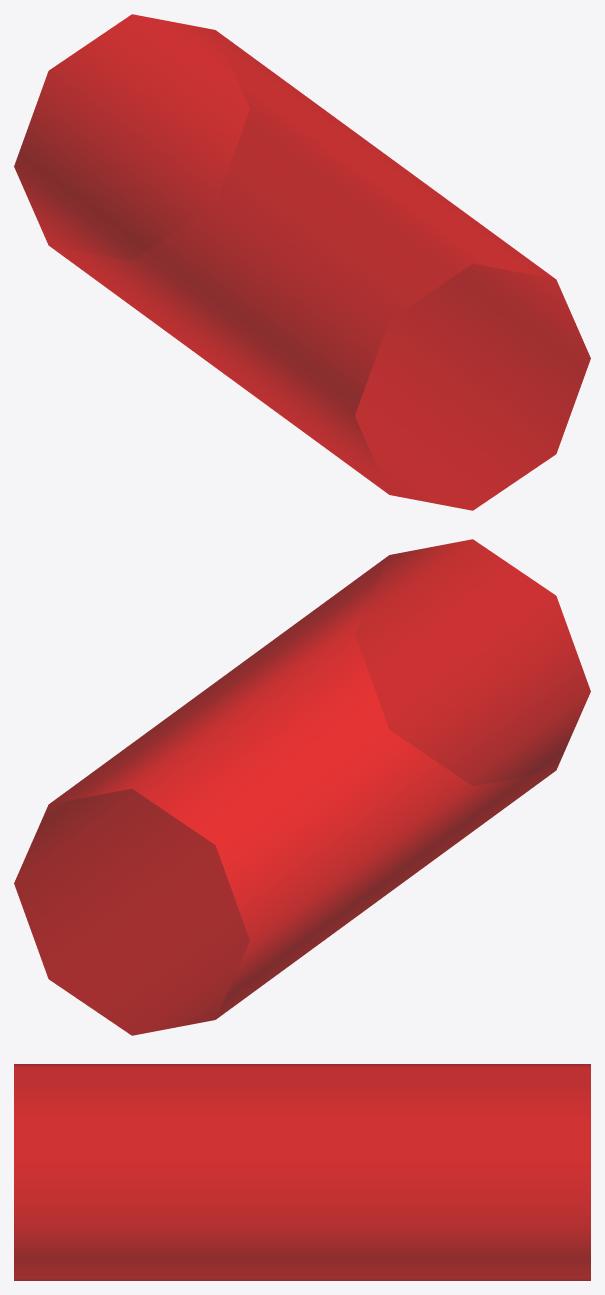
Rendered from Lazer.fbx.
3 renders of one model, top to bottom at view 1: azimuth 30°, elevation 25°; view 2: azimuth 150°, elevation 25°; view 3: azimuth 270°, elevation 25°, orthographic. The views are drawn at different scales.
Parts seen in each view (by area): view 1: Lazer1; view 2: Lazer1; view 3: Lazer1.
Part boxes in pixels (box(x1,y1,x2,y2)): Lazer1: box(14, 14, 590, 510); Lazer1: box(14, 539, 590, 1035); Lazer1: box(14, 1064, 590, 1280).
Bounding box in the file's own units: 40 × 40 × 100.
